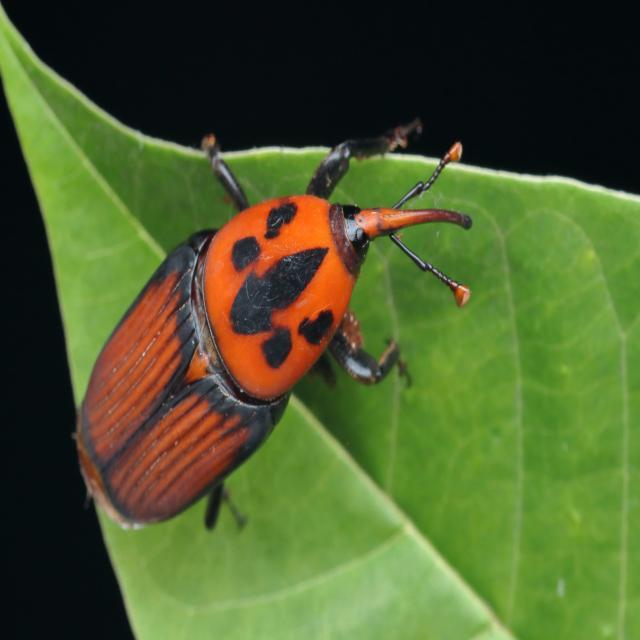Red-palm-weevil: (63, 104, 478, 562)
